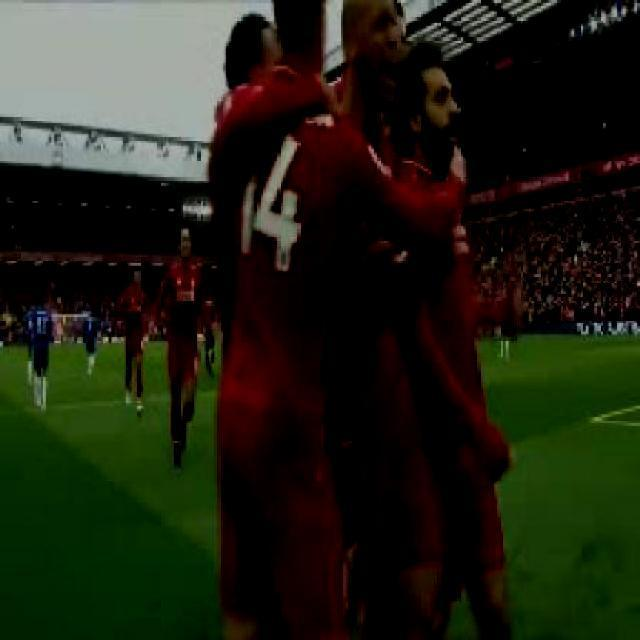non-fight: (206, 0, 520, 637)
